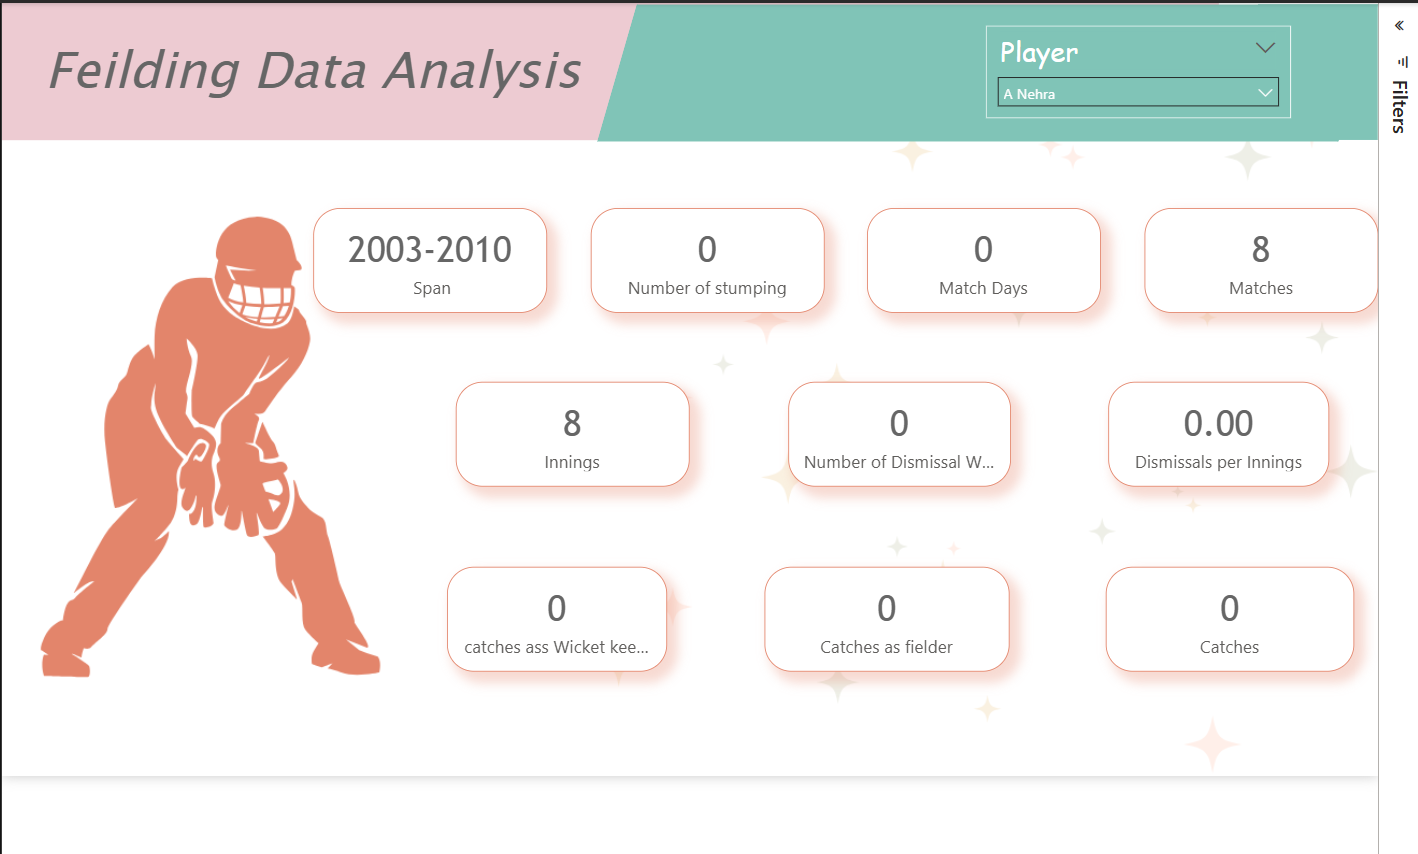

Layout of this report page (visuals, bound fields, positions):
{"tool":"powerbi","page":{"name":"Fielding","canvas":[1280,720],"ordinal":2},"visuals":[{"type":"shape","box":[0,0,1132.1,127.6],"z":0},{"type":"shape","box":[553.5,1.2,726.7,127.9],"z":1000},{"type":"shape","box":[1169.1,1.4,111.1,126.2],"z":2000},{"type":"slicer","fields":{"Values":["Fielding.Player"]},"box":[915.1,20.9,283.7,86],"z":3000},{"type":"card","fields":{"Values":["Min(Fielding.Span)"]},"box":[289.5,190.7,217.4,97.7],"z":4000},{"type":"card","fields":{"Values":["Sum(Fielding.St)"]},"box":[547.3,190.7,217.4,97.7],"z":5000},{"type":"card","fields":{"Values":["Min(Fielding.MD)"]},"box":[805,190.7,217.4,97.7],"z":6000},{"type":"card","fields":{"Values":["Sum(Fielding.Mat)"]},"box":[1062.6,190.7,217.4,97.7],"z":7000},{"type":"card","fields":{"Values":["Sum(Fielding.Inns)"]},"box":[422.1,352.3,217.4,97.7],"z":8000},{"type":"card","fields":{"Values":["Sum(Fielding.DisDescending)"]},"box":[730.8,352.3,207,97.7],"z":9000},{"type":"card","fields":{"Values":["Sum(Fielding.D/I)"]},"box":[1029.1,352.3,205.8,97.7],"z":10000},{"type":"card","fields":{"Values":["Sum(Fielding.Ct Fi)"]},"box":[708.7,524.4,227.9,97.7],"z":11000},{"type":"card","fields":{"Values":["Sum(Fielding.Ct)"]},"box":[1026.7,524.4,231.4,97.7],"z":12000},{"type":"card","fields":{"Values":["Sum(Fielding.Ct Wk)"]},"box":[414,524.4,204.7,97.7],"z":16000}]}

Visuals, with their boxes on the page's 1280x720 design canvas (x1, y1, x2, y2). These are canvas units, not pixel positions in the 1418x854 screenshot, which may show the page scaled, cropped or inside an application window:
shape: {"left": 0, "top": 0, "right": 1132, "bottom": 128}
shape: {"left": 554, "top": 1, "right": 1280, "bottom": 129}
shape: {"left": 1169, "top": 1, "right": 1280, "bottom": 128}
slicer - Fielding.Player: {"left": 915, "top": 21, "right": 1199, "bottom": 107}
card - Min(Fielding.Span): {"left": 290, "top": 191, "right": 507, "bottom": 288}
card - Sum(Fielding.St): {"left": 547, "top": 191, "right": 765, "bottom": 288}
card - Min(Fielding.MD): {"left": 805, "top": 191, "right": 1022, "bottom": 288}
card - Sum(Fielding.Mat): {"left": 1063, "top": 191, "right": 1280, "bottom": 288}
card - Sum(Fielding.Inns): {"left": 422, "top": 352, "right": 640, "bottom": 450}
card - Sum(Fielding.DisDescending): {"left": 731, "top": 352, "right": 938, "bottom": 450}
card - Sum(Fielding.D/I): {"left": 1029, "top": 352, "right": 1235, "bottom": 450}
card - Sum(Fielding.Ct Fi): {"left": 709, "top": 524, "right": 937, "bottom": 622}
card - Sum(Fielding.Ct): {"left": 1027, "top": 524, "right": 1258, "bottom": 622}
card - Sum(Fielding.Ct Wk): {"left": 414, "top": 524, "right": 619, "bottom": 622}
